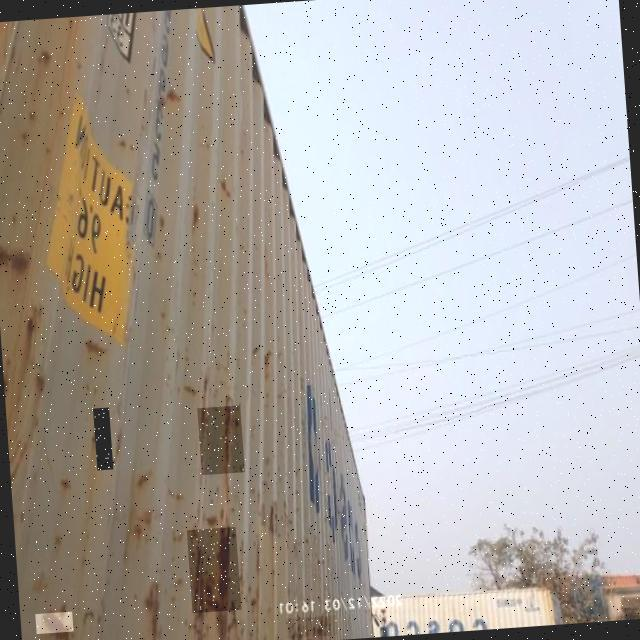Rust: (186, 527, 241, 613), (197, 405, 245, 475), (93, 407, 113, 470), (285, 615, 337, 639), (35, 612, 74, 637)
